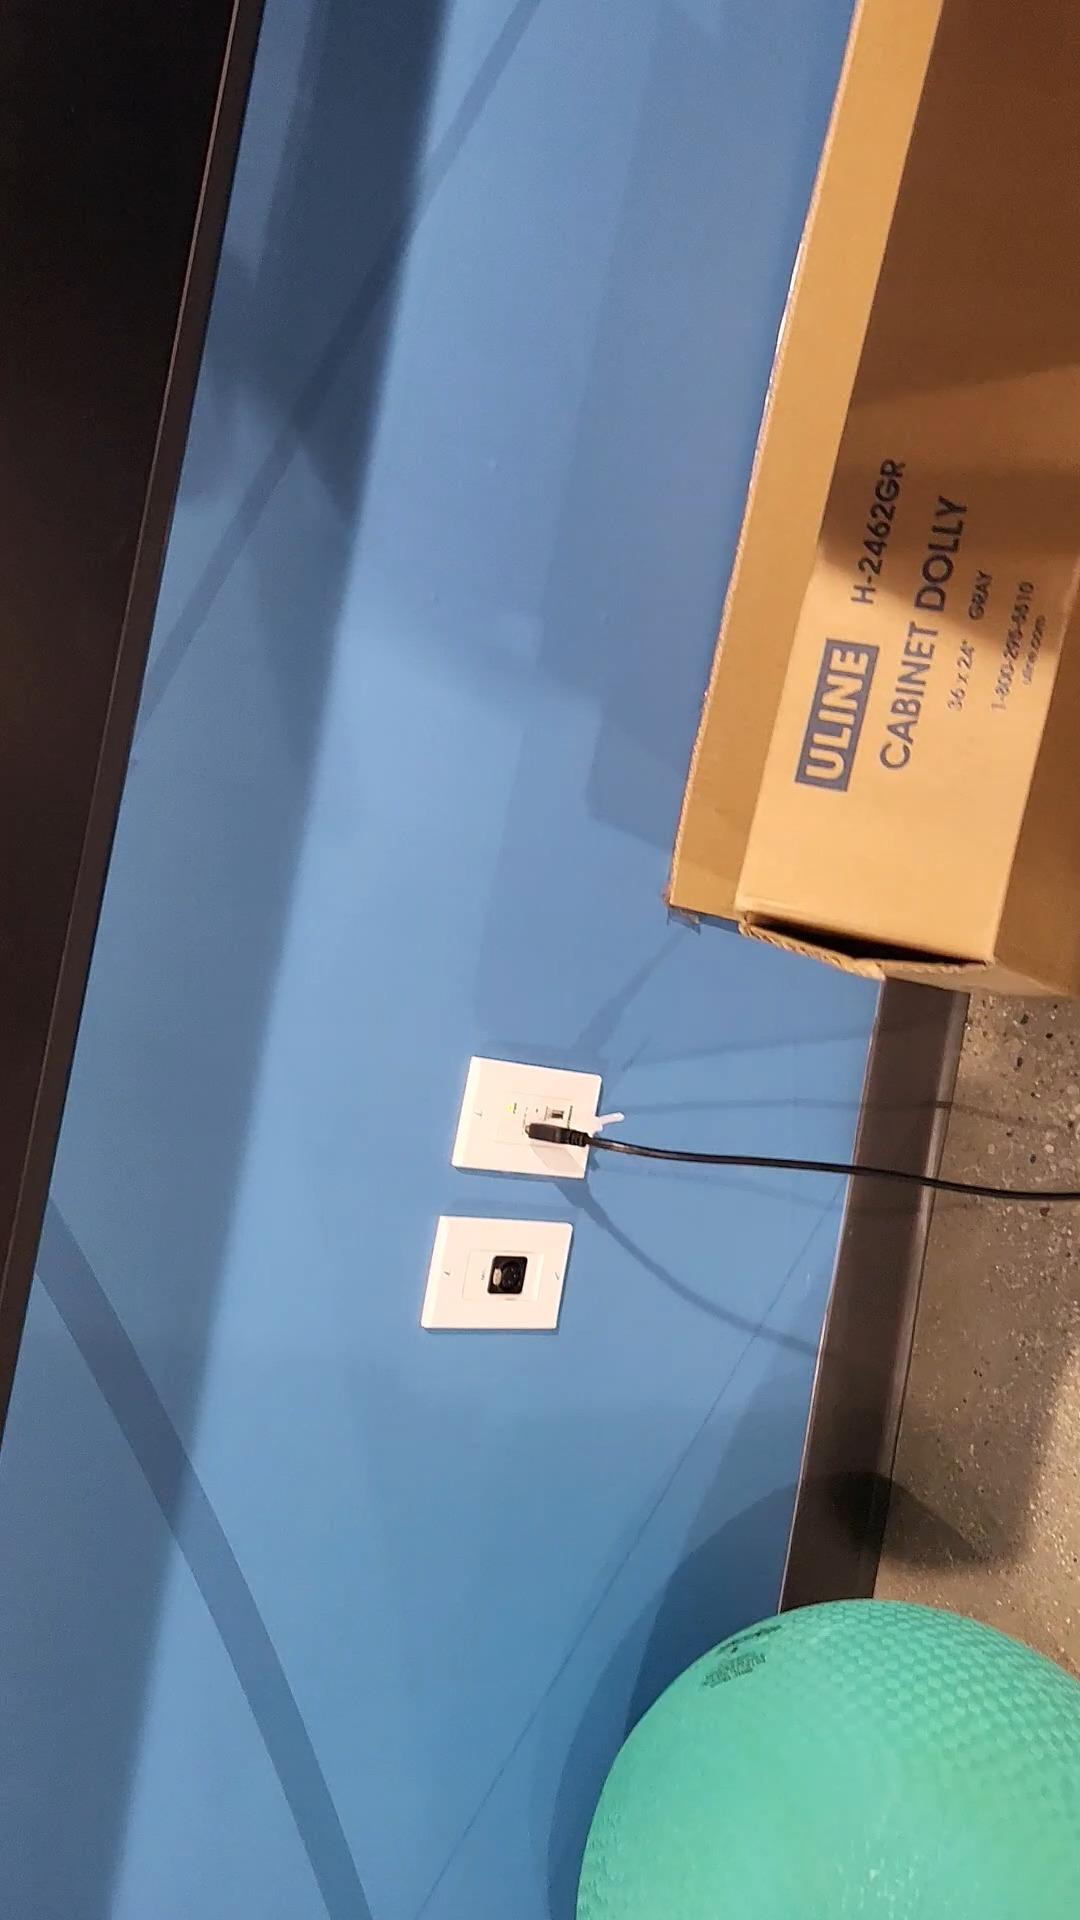algae: (583, 1602, 1080, 1920)
